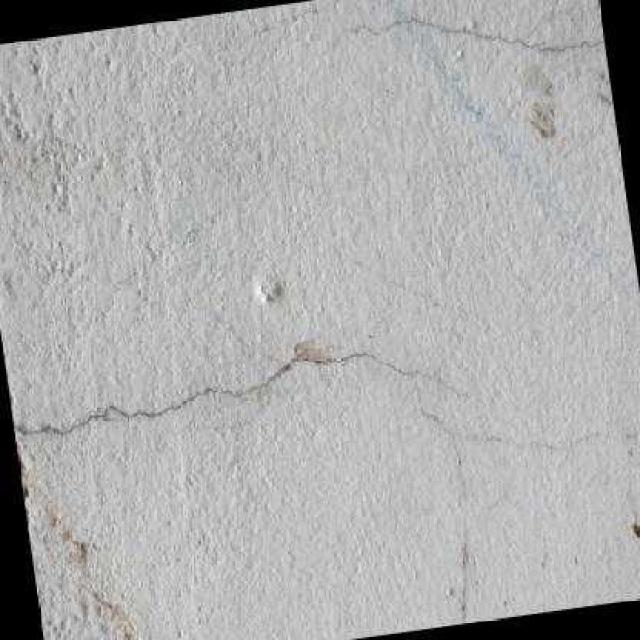D00: (16, 350, 452, 439), (358, 15, 605, 53)
